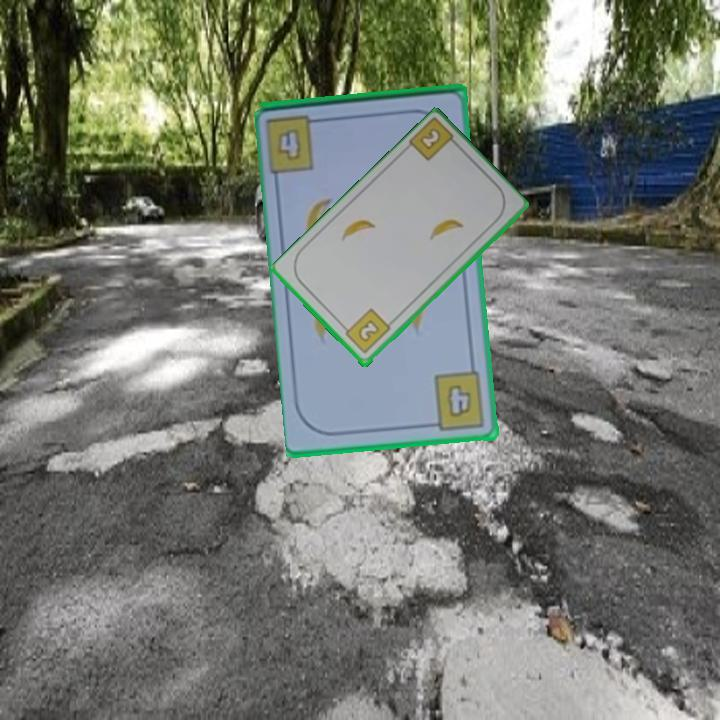2b: (339, 305, 393, 357), (416, 124, 444, 153)
4b: (424, 368, 489, 433), (274, 125, 305, 165)
